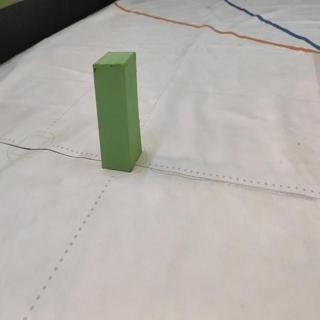greenbox: (92, 51, 142, 173)
